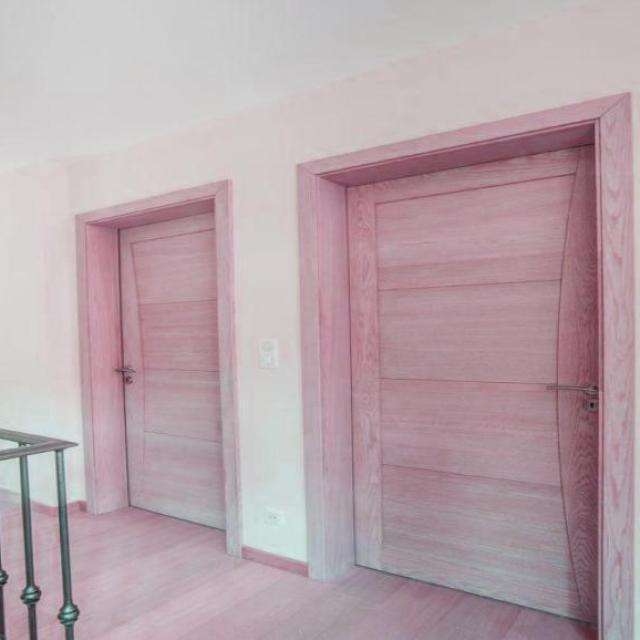door: (345, 138, 601, 625), (91, 190, 250, 547)
